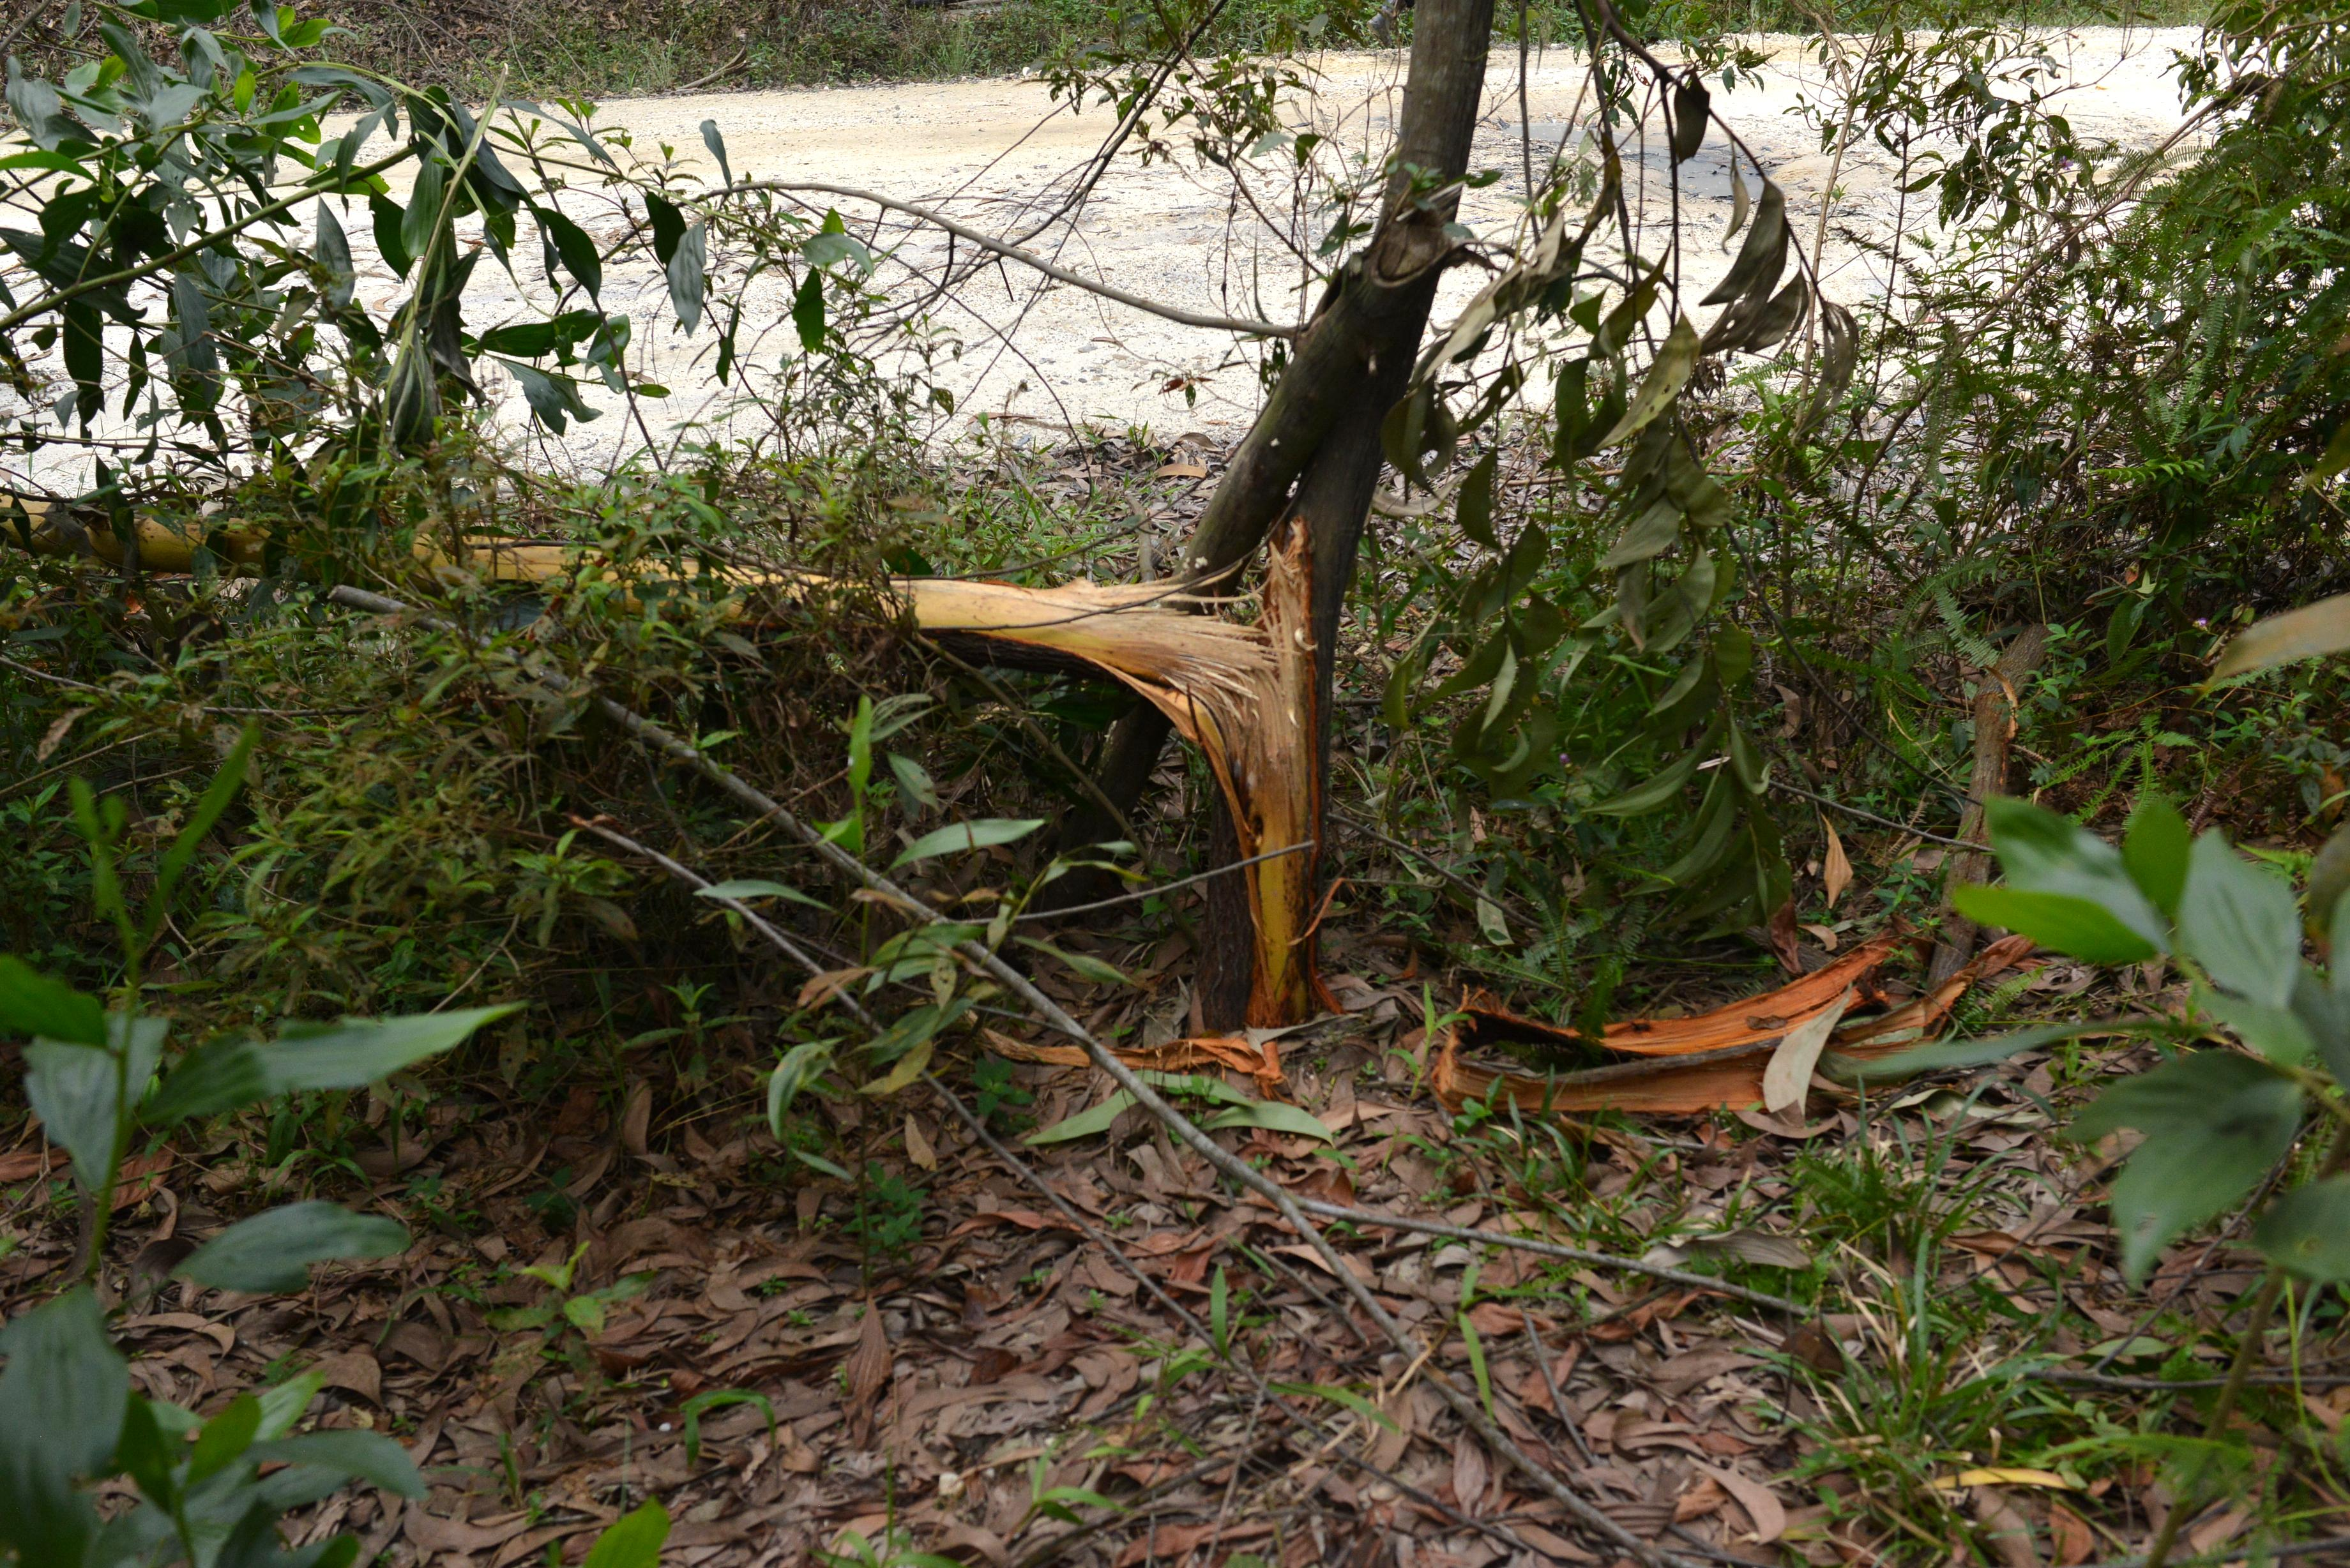Mammals Attack: (0, 493, 1318, 1020)
